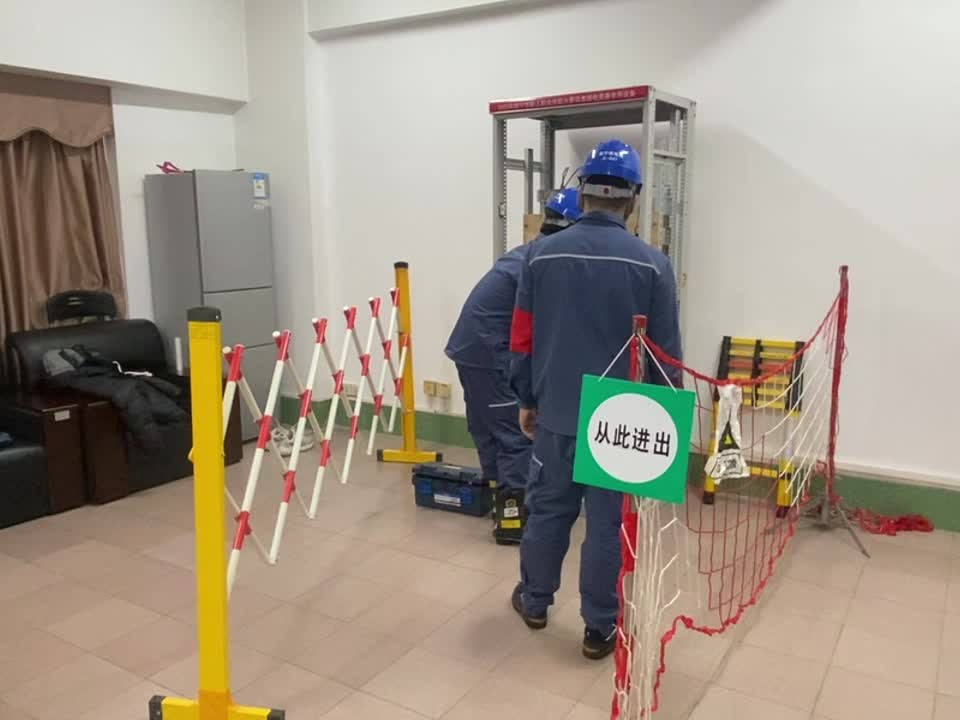badge: (507, 308, 537, 356)
downsuit: (518, 434, 627, 622), (457, 370, 526, 475)
halt: (576, 138, 646, 223), (538, 186, 579, 234)
hand: (516, 404, 540, 441)
intosign: (569, 370, 698, 506)
person: (505, 137, 690, 661), (439, 185, 578, 539)
shoe: (480, 476, 527, 546)
upsuit: (505, 208, 679, 398)
